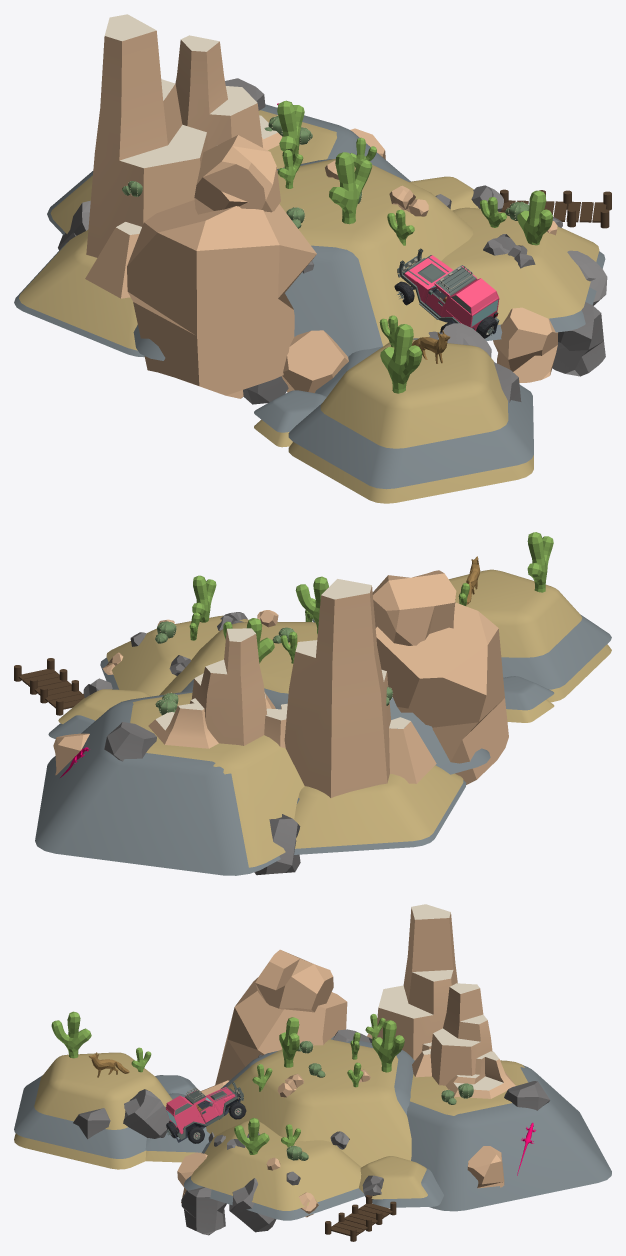
File: Island7.glb
3 views of the same model, one above another, from view 1: azimuth 30°, elevation 25°; view 2: azimuth 150°, elevation 25°; view 3: azimuth 270°, elevation 25° (orthographic). The views are drawn at different scales.
Visible parts, largest first — view 1: menhir_mini.051, Land.003, formationLarge_rock.001, Land.005, Land.002, Land.004, Land.001, formationLarge_rock, car, menhir_mini.008, menhir_mini.052, menhir_mini.050 (+10 smaller); view 2: Land, formationLarge_rock.001, Land.004, menhir_mini.051, Land.003, formationLarge_rock, Land.005, menhir_mini.008, Land.002, Land.001, menhir_mini.003, menhir_mini.057 (+5 smaller); view 3: Land.003, Land, Land.005, formationLarge_rock.001, formationLarge_rock, menhir_mini.051, Land.002, Land.001, menhir_mini.008, car, Land.004, menhir_mini.002 (+10 smaller).
Boxes of the visible parts, x1,y1,x2,y2 form: menhir_mini.051: (127,200,316,398); Land.003: (277,158,599,346); formationLarge_rock.001: (85,14,208,298); Land.005: (254,339,533,503); Land.002: (254,338,533,489); Land.004: (19,110,336,350); Land.001: (133,159,605,360); formationLarge_rock: (175,35,281,150); car: (394,248,499,338); menhir_mini.008: (194,135,280,214); menhir_mini.052: (493,307,557,382); menhir_mini.050: (281,330,348,392); Land: (35,691,466,875); formationLarge_rock.001: (264,579,436,797); Land.004: (130,692,463,867); menhir_mini.051: (375,602,508,784); Land.003: (58,615,317,723); formationLarge_rock: (148,628,275,748); Land.005: (449,569,611,722); menhir_mini.008: (372,570,456,645); Land.002: (501,614,611,710); Land.001: (48,657,490,774); menhir_mini.003: (104,722,156,761); menhir_mini.057: (254,814,300,875); Land.003: (191,1039,427,1210); Land: (407,1065,611,1211); Land.005: (14,1052,201,1169); formationLarge_rock.001: (367,904,457,1060); formationLarge_rock: (412,983,515,1098); menhir_mini.051: (215,977,347,1085); Land.002: (14,1075,210,1158); Land.001: (184,1036,443,1220); menhir_mini.008: (255,949,333,1012); car: (166,1082,246,1143); Land.004: (410,1060,528,1115); menhir_mini.002: (123,1089,169,1138).
Bounding box in the file's own units: 24.86 × 13.35 × 33.44.
13 materials, 2 textured.
